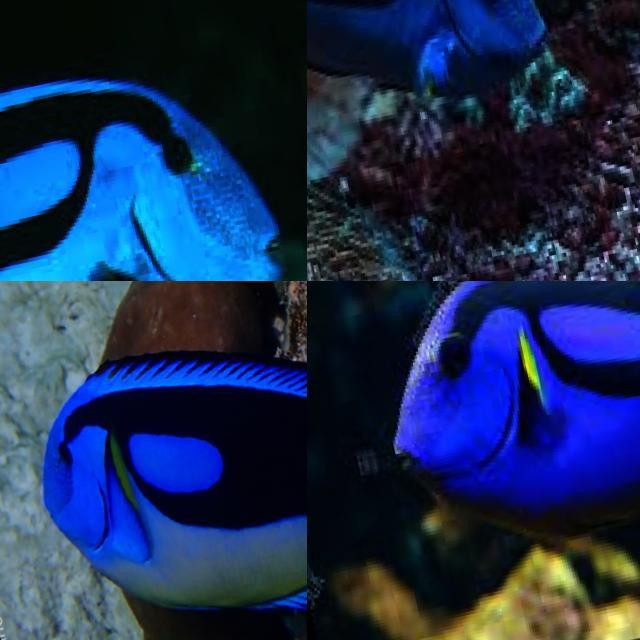BlueTang: (0, 281, 307, 640), (334, 281, 640, 604), (0, 11, 307, 281), (307, 0, 581, 213)
